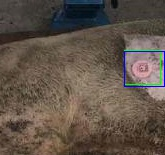text: (124, 50, 160, 84)
